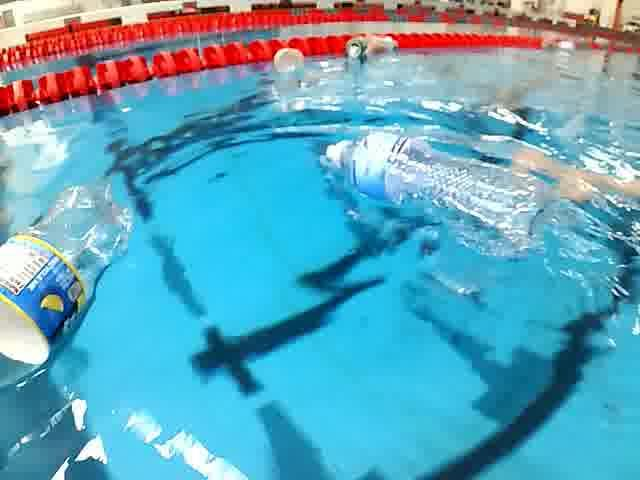Bottle: (0, 177, 142, 397), (318, 126, 552, 243), (272, 48, 312, 78)
